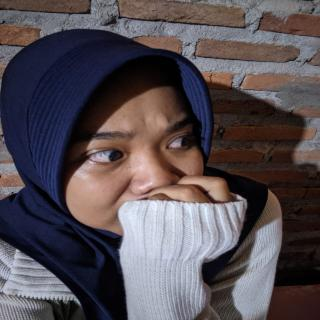Takut: (67, 63, 242, 244)
